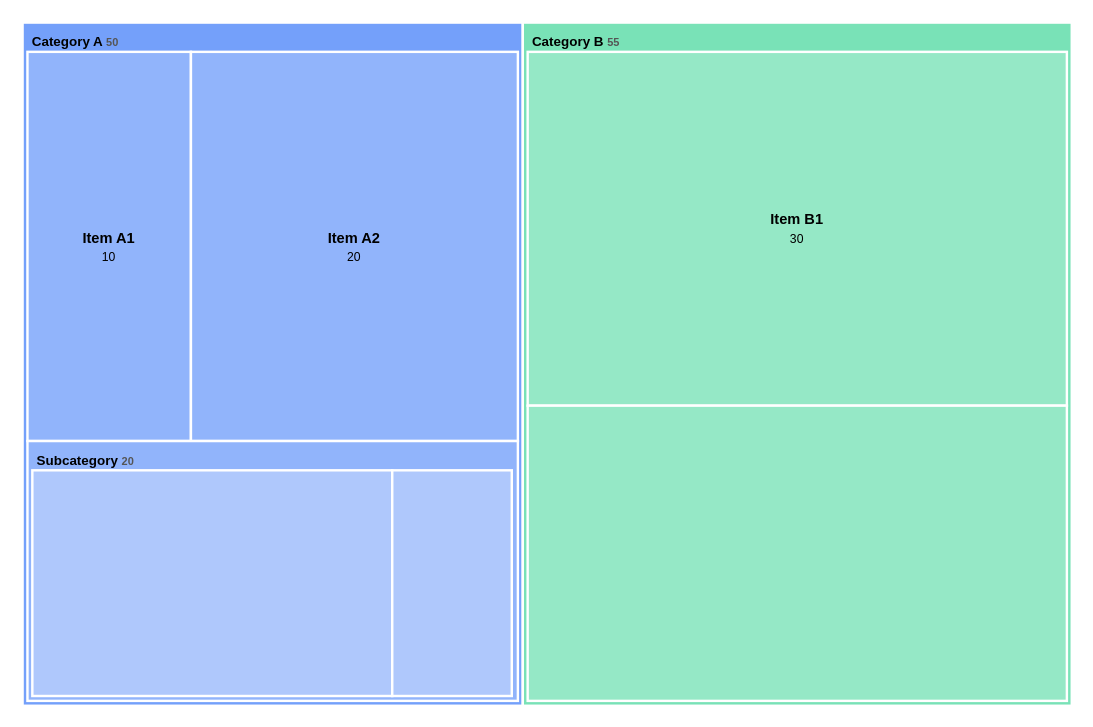
This 1093x727 diagram has some shape labels left out. The centre of each missing label's shape, as x and y in pixels:
Item B2 25: [797,553]
Item S1 15: [211,582]
Item S2 5: [451,582]
